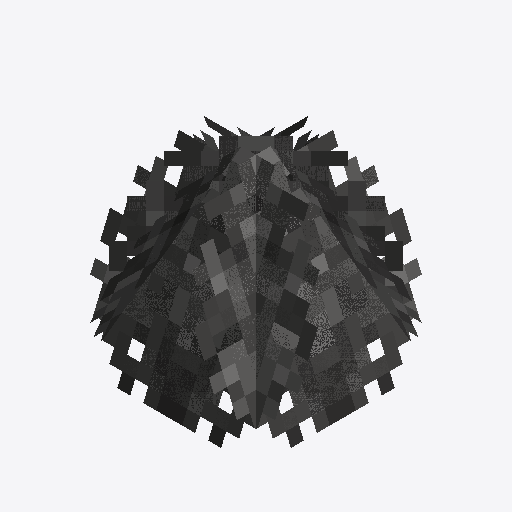
Isometric view (azimuth 45°, elevation 35.3°) of a Minecraft model made of 6 cuboids, textured from the same repository.
Visible parts, largest first — element 1, element 4, element 5, element 2, element 3.
Boxes of the visible parts, box(x1,y1,x2,y2) form: element 1: box(90, 130, 319, 447); element 4: box(192, 130, 421, 447); element 5: box(109, 136, 402, 300); element 2: box(193, 116, 421, 340); element 3: box(90, 116, 318, 340).
Size of the model in its own units: 16 by 16 by 16.